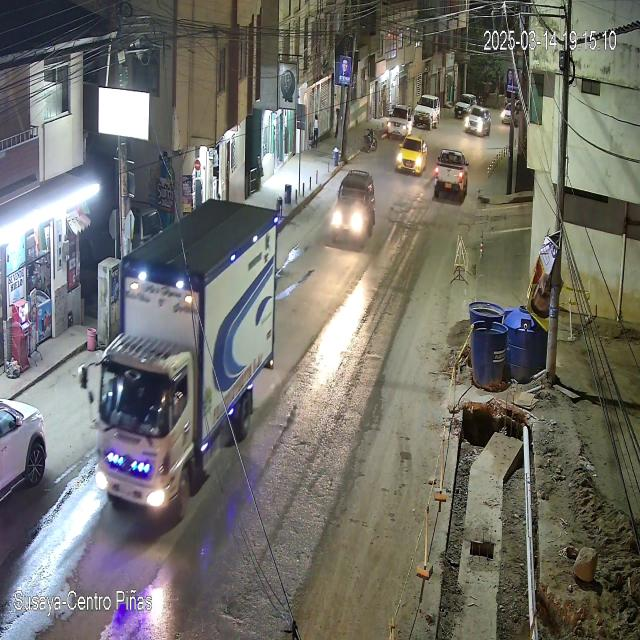TRUCK: (95, 199, 281, 509)
